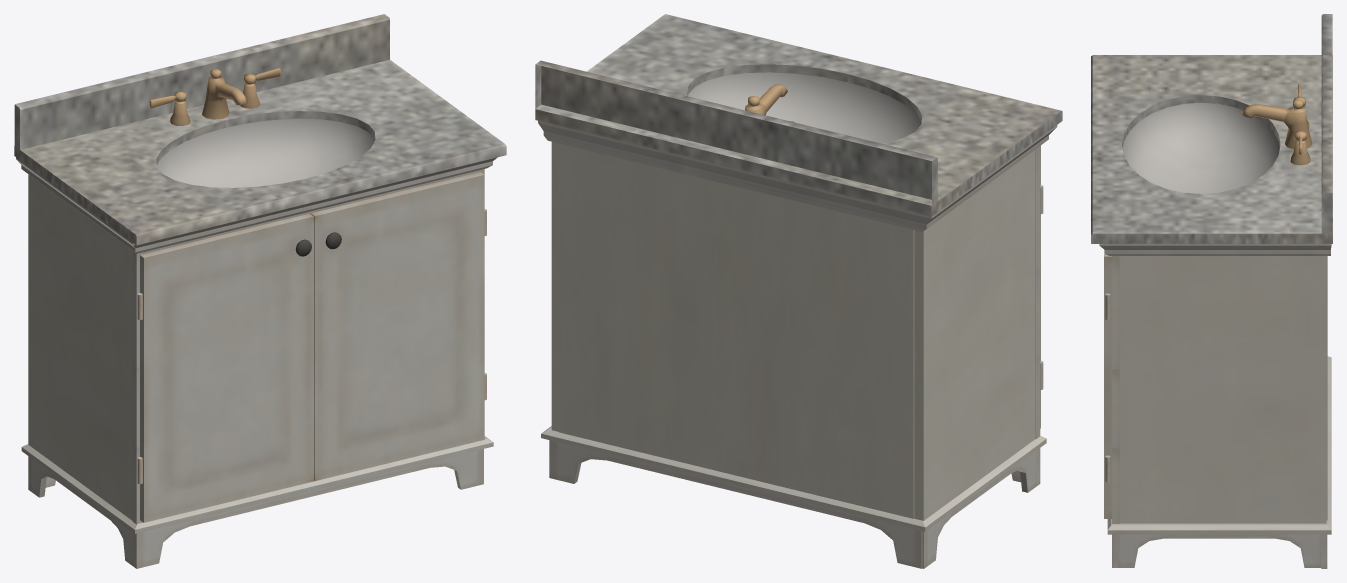
The model's file is T_Sink.FBX.
3 views of the same model, side by side, from view 1: azimuth 30°, elevation 25°; view 2: azimuth 150°, elevation 25°; view 3: azimuth 270°, elevation 25° (orthographic). The views are drawn at different scales.
Visible parts, largest first — view 1: T_Sink, T_Sink_Door_L, T_Sink_Door_R; view 2: T_Sink; view 3: T_Sink, T_Sink_Door_R.
Boxes of the visible parts, x1,y1,x2,y2 form: T_Sink: (14, 14, 506, 568); T_Sink_Door_L: (137, 213, 313, 522); T_Sink_Door_R: (310, 172, 486, 480); T_Sink: (535, 14, 1062, 568); T_Sink: (1091, 14, 1332, 568); T_Sink_Door_R: (1104, 249, 1111, 518).
Size of the model in its own units: 100 by 100 by 57.26.
